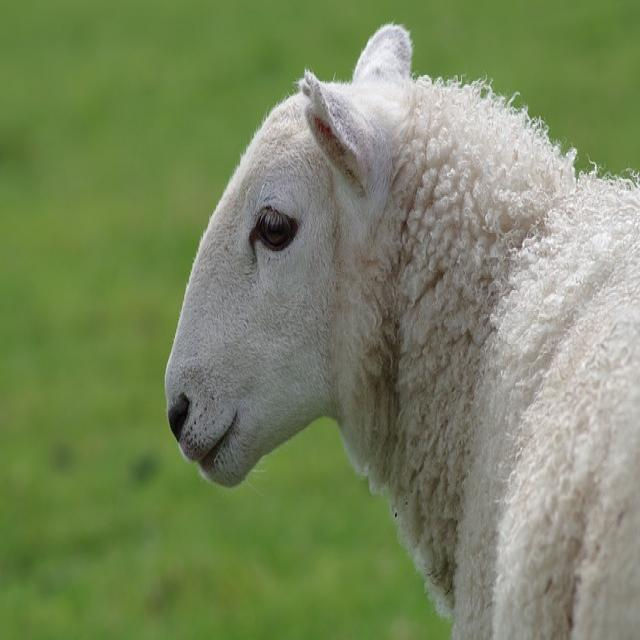goat: (165, 26, 639, 638)
